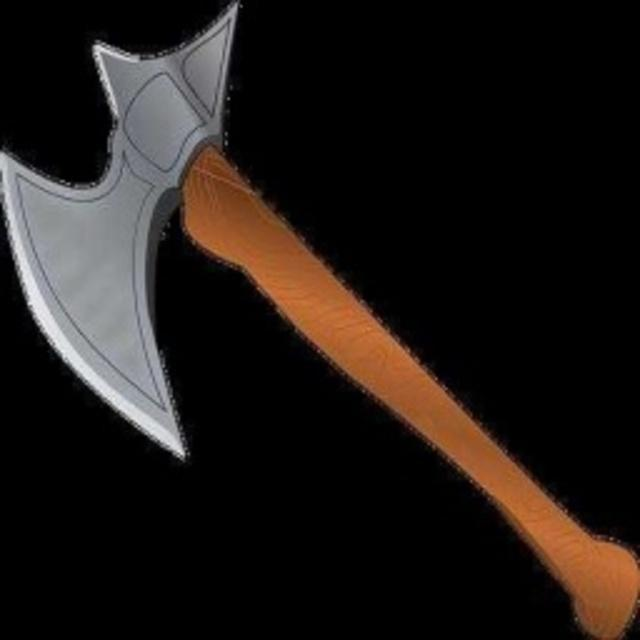ax: (5, 1, 640, 636)
